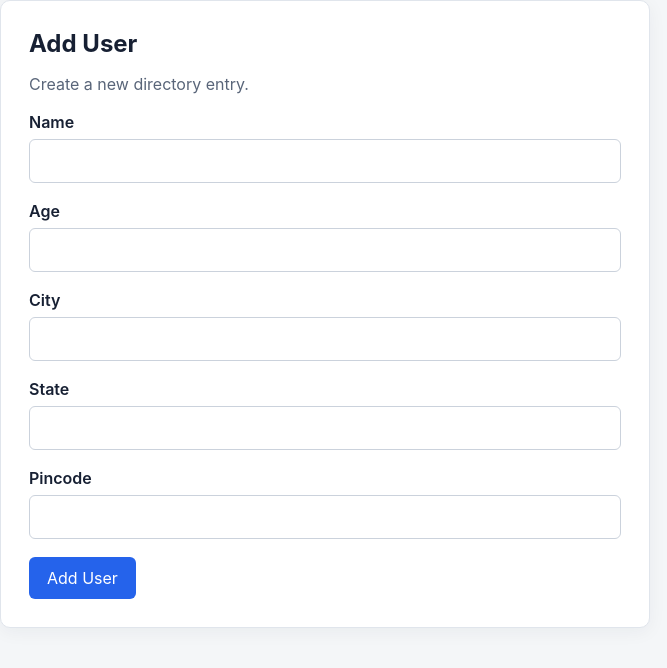
it: AddUserPage › rejects an invalid age
Type "Jane Doe" into the field labelled "Name" at (325, 161), box [29, 139, 621, 183]
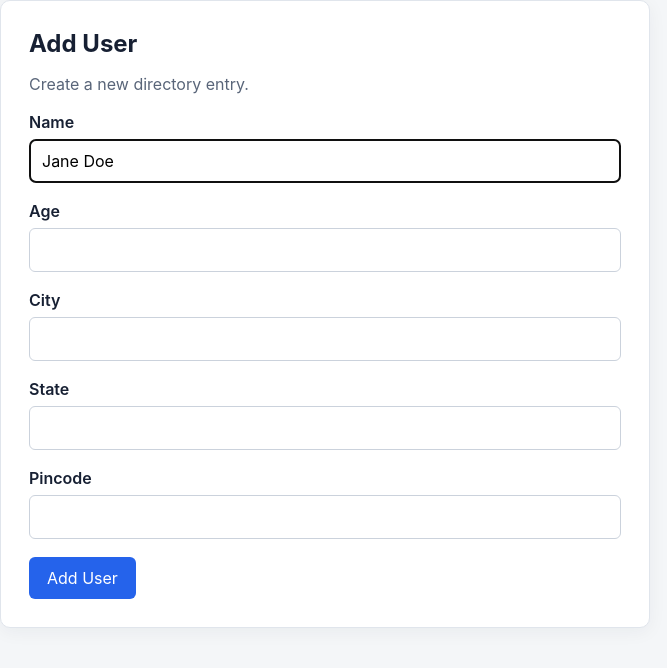
Type "121" into the number field labelled "Age" at (325, 250), box [29, 228, 621, 272]
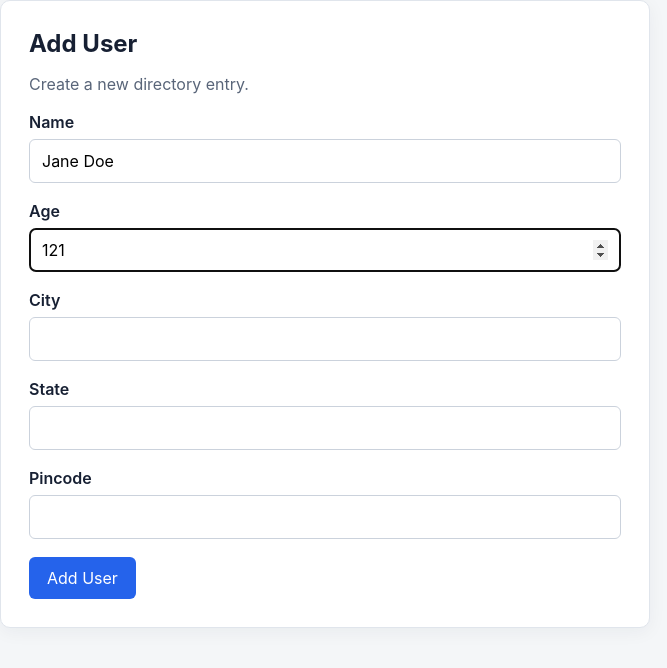
Type "Melbourne" into the field labelled "City" at (325, 339), box [29, 317, 621, 361]
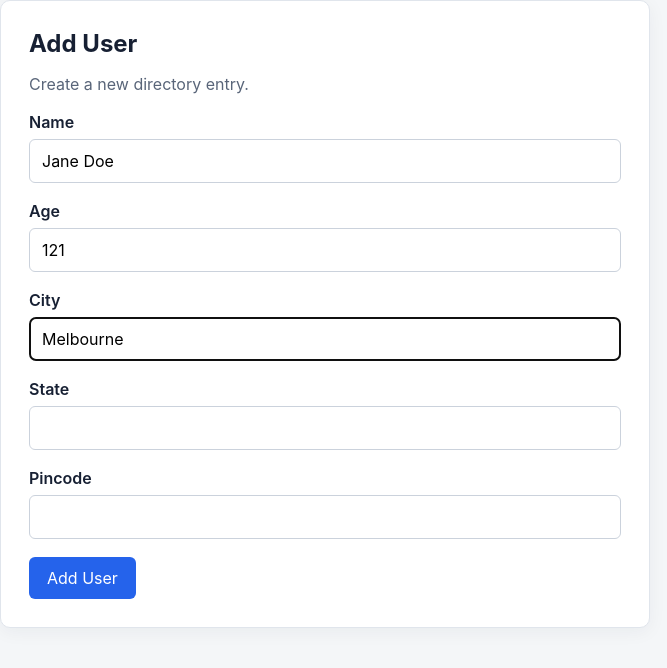
Type "VIC" into the field labelled "State" at (325, 428), box [29, 406, 621, 450]
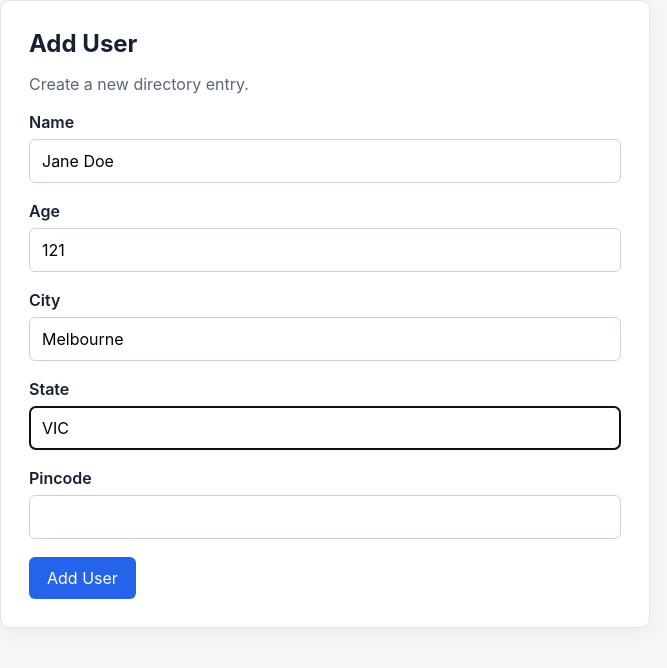
Type "3000" into the field labelled "Pincode" at (325, 517), box [29, 495, 621, 539]
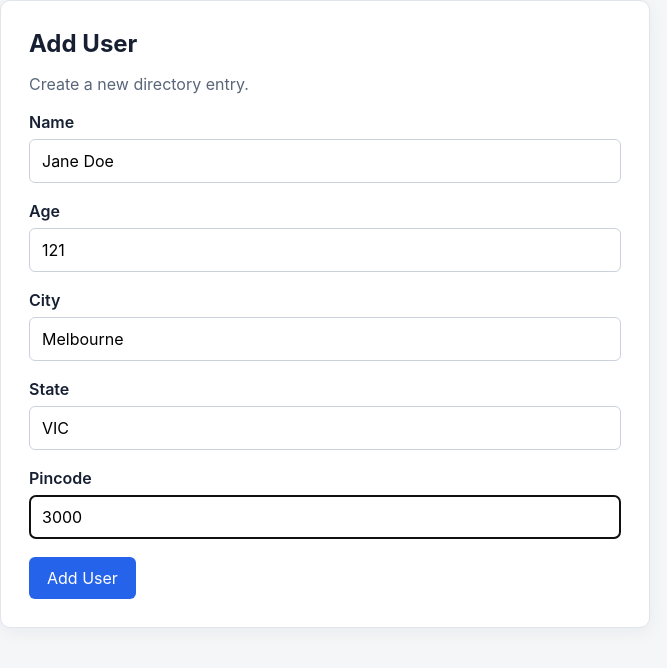
Click the button "Add User" at (82, 578), box [29, 557, 136, 599]
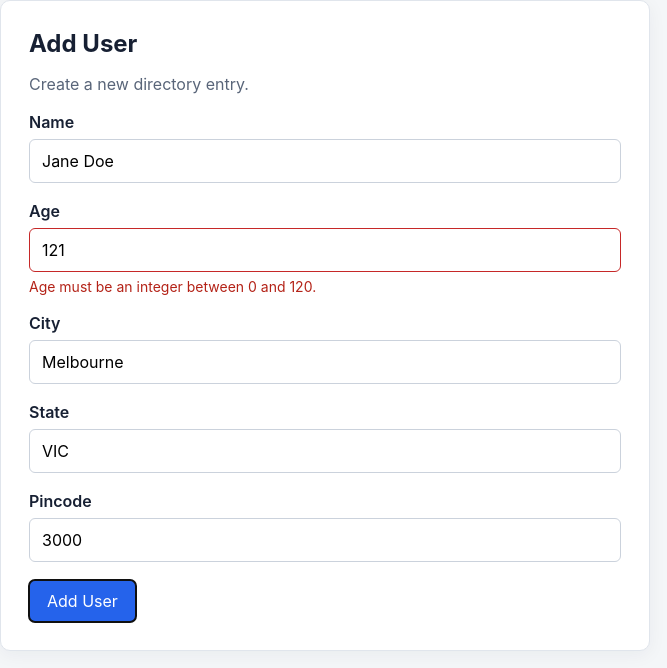
Now the text "Age must be an integer between 0 and 120." is shown, box [29, 278, 316, 295]
